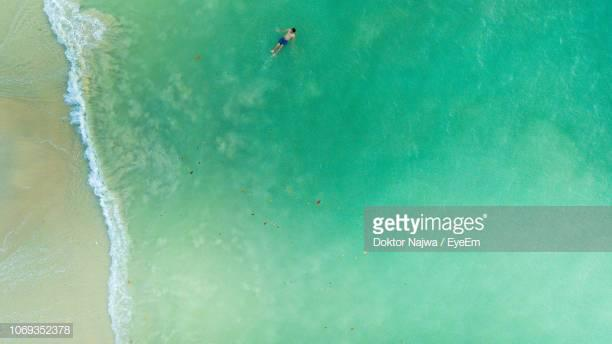human: (270, 24, 298, 58)
